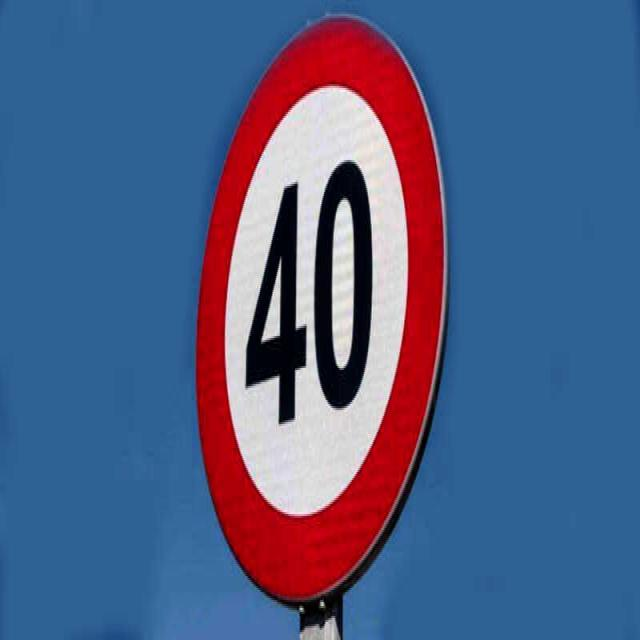speed limit 40: (195, 18, 451, 605)
